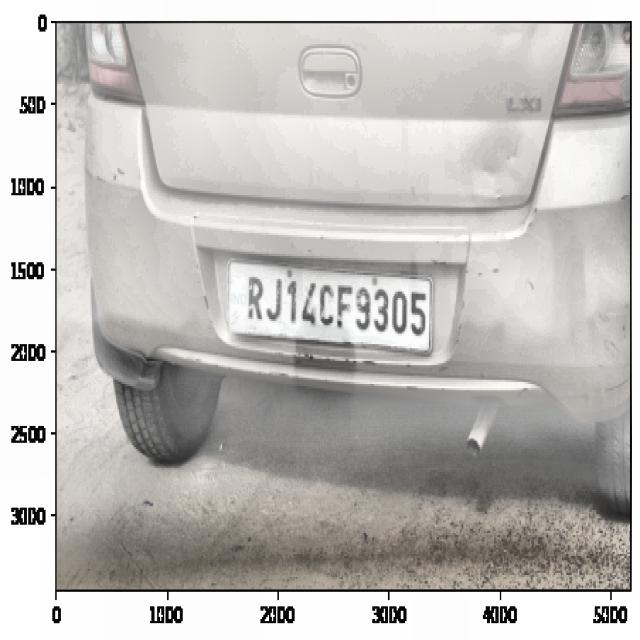license_plate: (242, 265, 431, 344)
